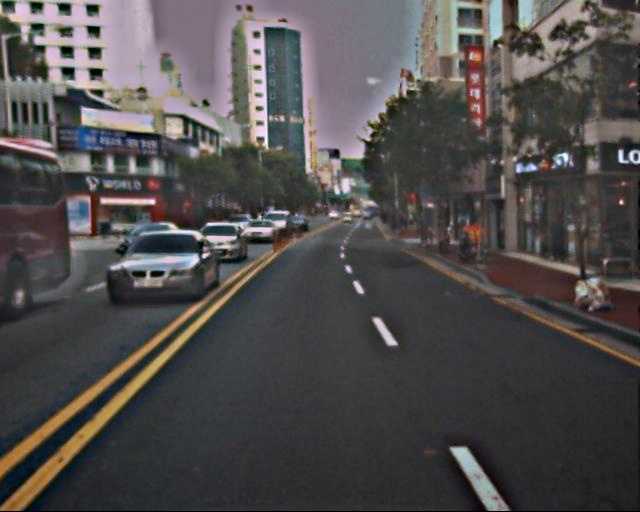person: (548, 216, 569, 265)
